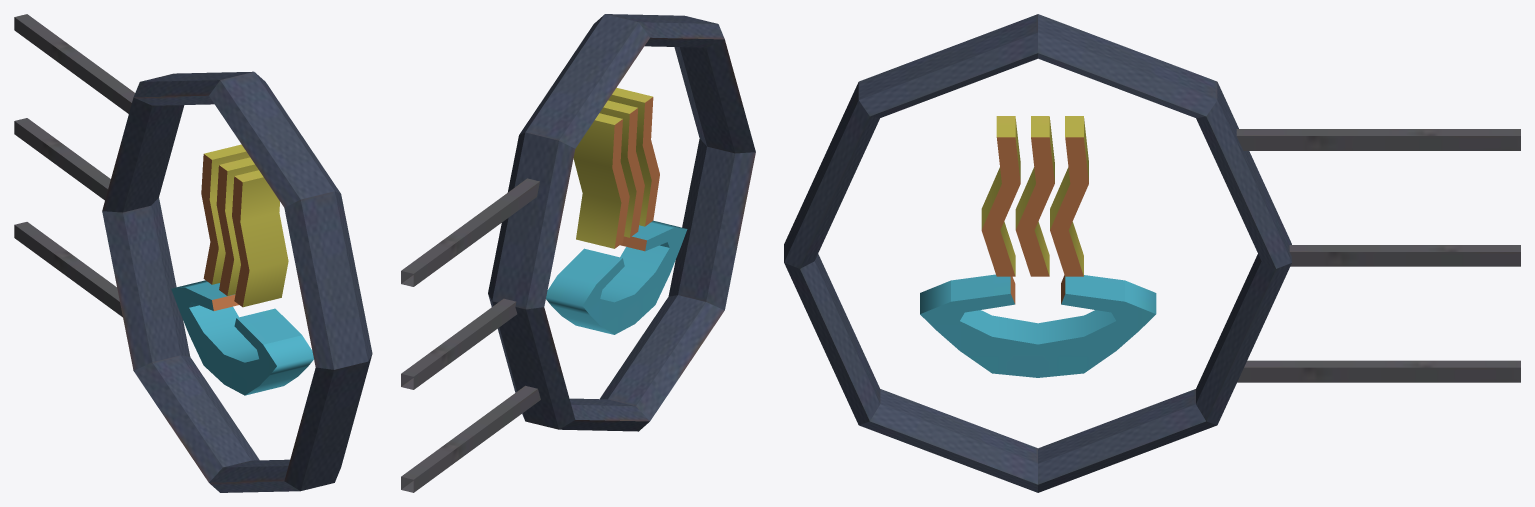
The model's file is ad03-art.glb.
3 renders of one model, left to right at view 1: azimuth 30°, elevation 25°; view 2: azimuth 150°, elevation 25°; view 3: azimuth 270°, elevation 25°, orthographic. The views are drawn at different scales.
Parts seen in each view (by area): view 1: Ad03_Art; view 2: Ad03_Art; view 3: Ad03_Art.
Part boxes in pixels (x1,y1,x2,y2): Ad03_Art: (14, 14, 372, 492); Ad03_Art: (401, 14, 755, 492); Ad03_Art: (784, 14, 1520, 492).
Size of the model in its own units: 0.5731 by 3.98 by 5.77.
1 material, 1 textured.
